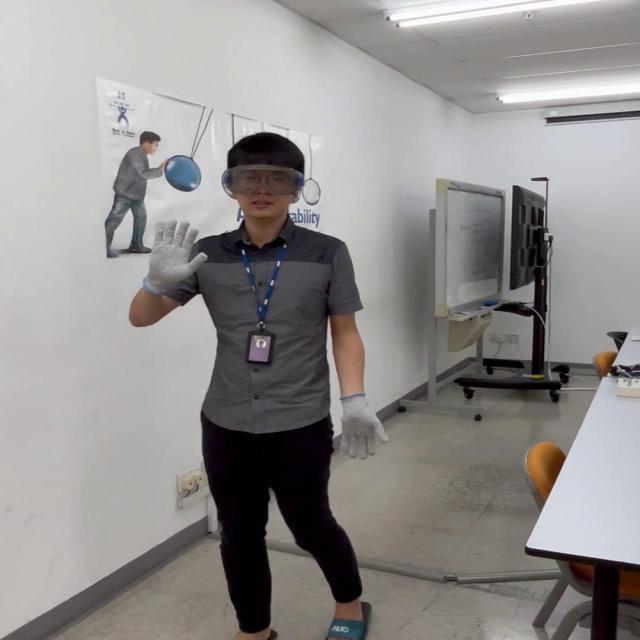gloved_hand: (146, 216, 210, 294), (335, 392, 386, 462)
